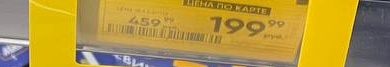1d: (106, 22, 222, 45)
